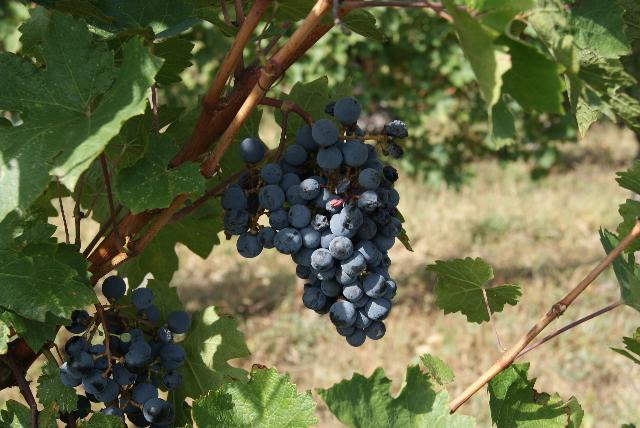grapes: (221, 96, 402, 346), (59, 275, 191, 428)
